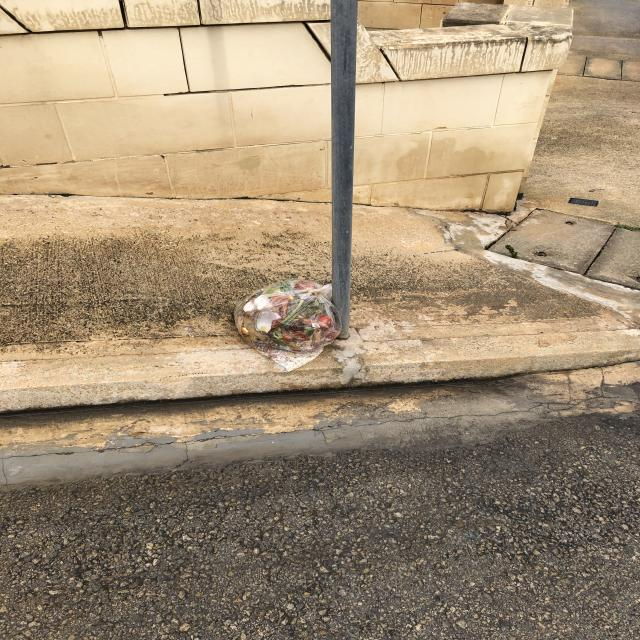Organic Waste -White Bag-: (237, 279, 341, 362)
